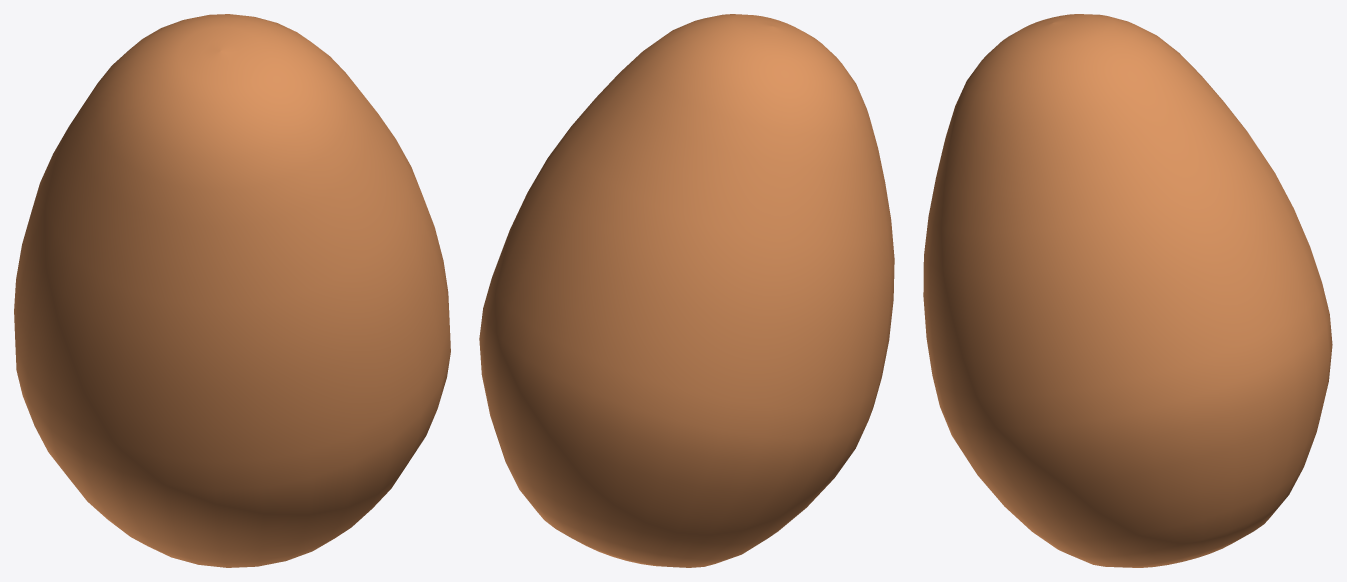
File: egg.glb
The picture shows the model from 3 angles, left to right: view 1: azimuth 30°, elevation 25°; view 2: azimuth 150°, elevation 25°; view 3: azimuth 270°, elevation 25°; orthographic projection. The views are drawn at different scales.
Parts seen in each view (by area): view 1: egg; view 2: egg; view 3: egg.
Part boxes in pixels (bbox=[...]): egg: bbox=[14, 14, 450, 567]; egg: bbox=[479, 14, 894, 567]; egg: bbox=[923, 14, 1332, 567].
Size of the model in its own units: 0.6627 by 0.9157 by 0.6709.
